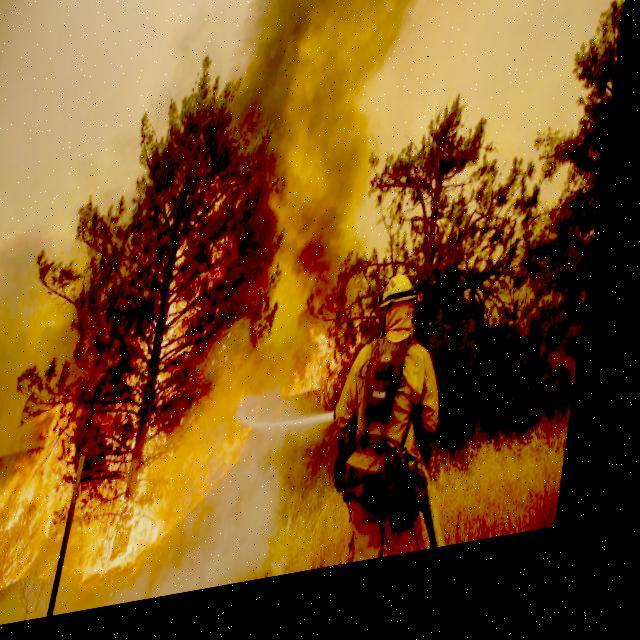Fire: (0, 182, 403, 614)
